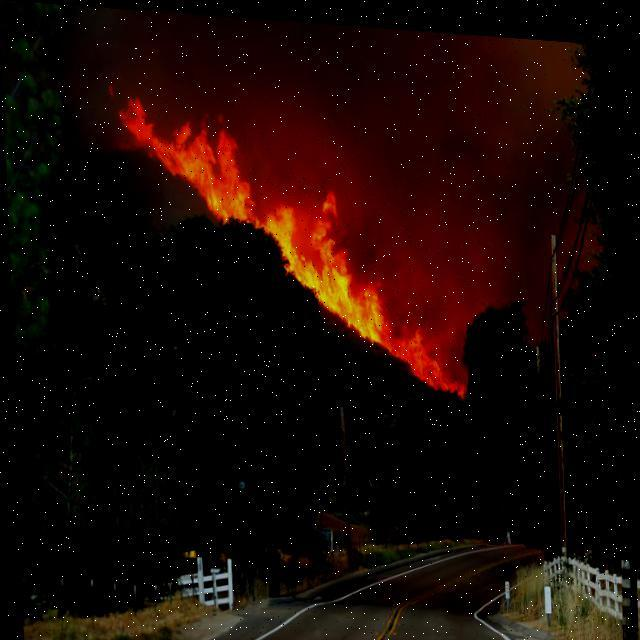Fire: (113, 86, 473, 394)
